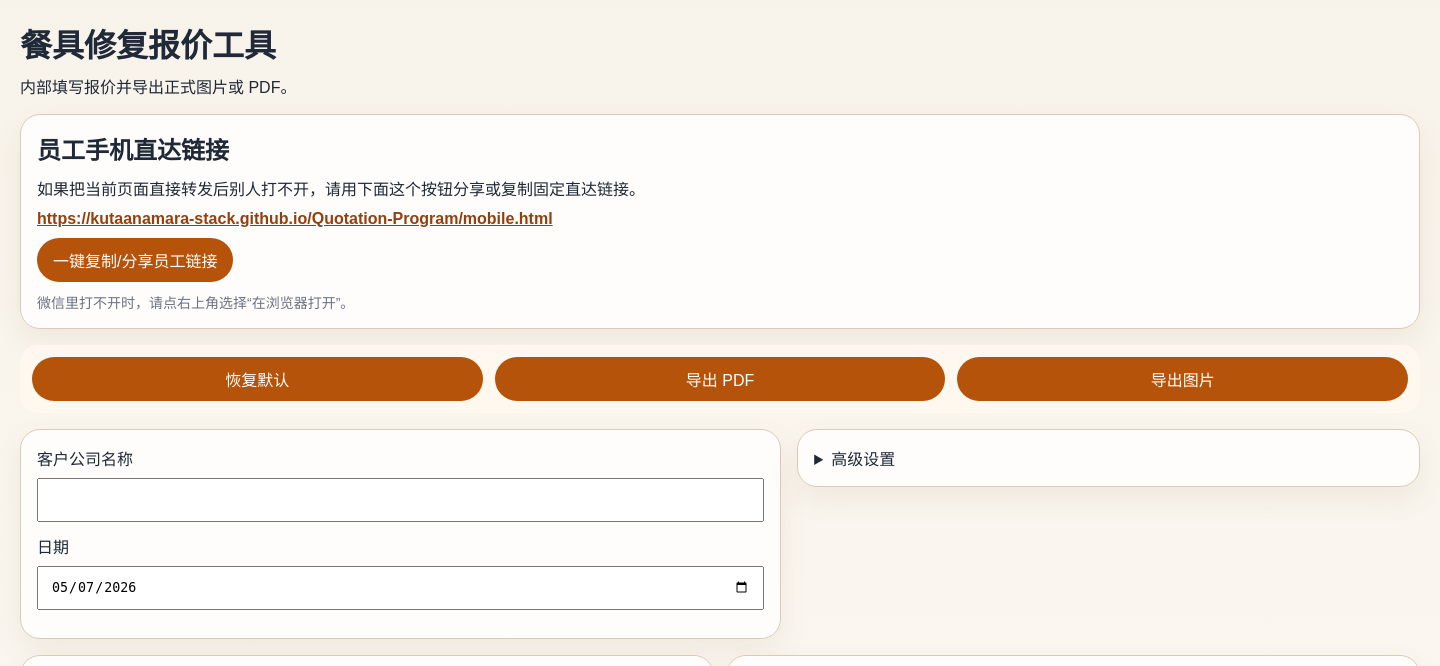
it: App › lets the operator override a single row blank price
Click the heading "高级设置" at (863, 460), box [831,451,895,468]
(page scrolled)
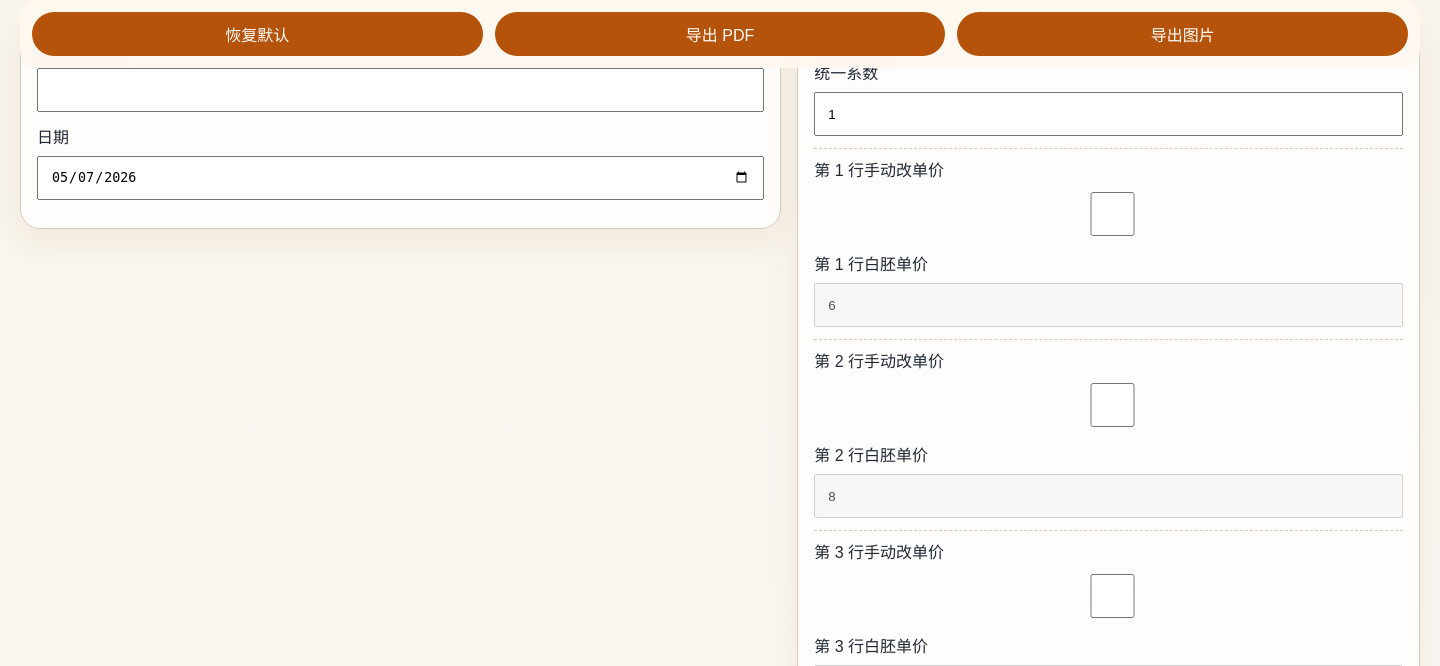
Click the checkbox labelled "第 2 行手动改单价" at (1113, 405), box [818,383,1407,427]
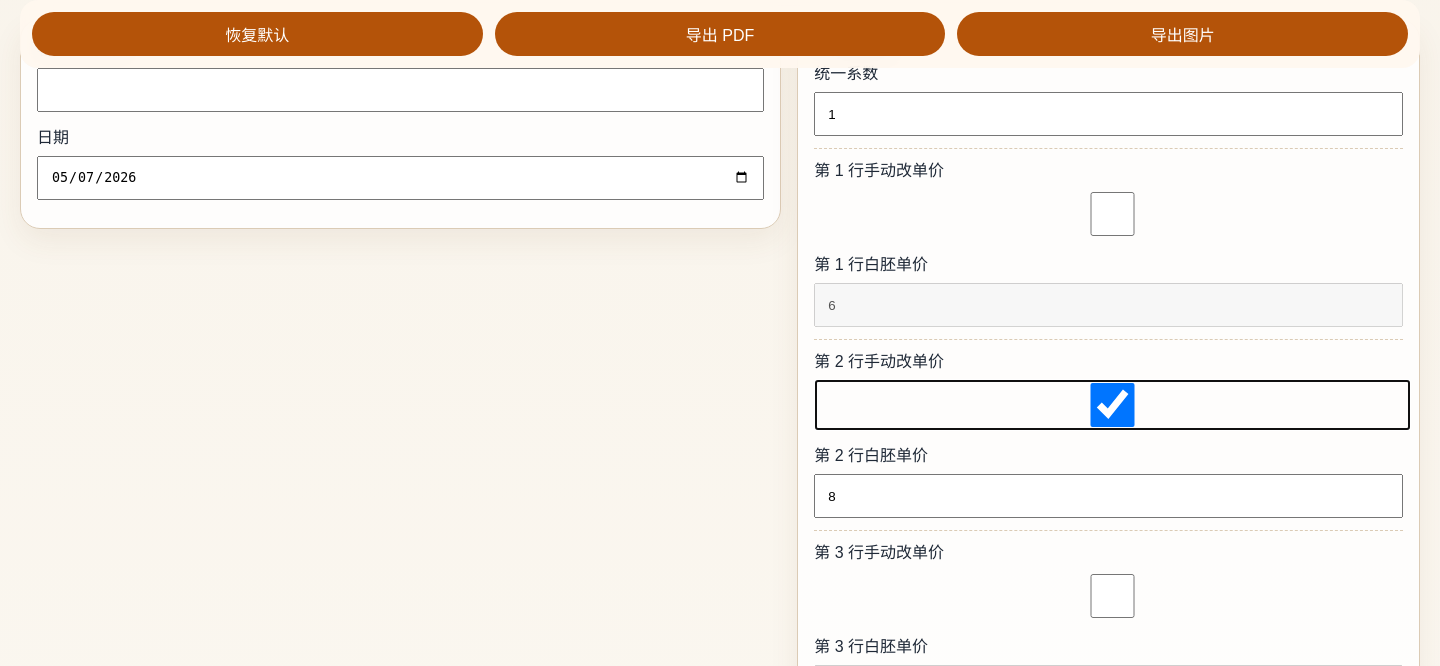
Replace the text in the number field labelled "第 2 行白胚单价" with "25" at (1109, 496), box [814,474,1403,518]
(page scrolled)
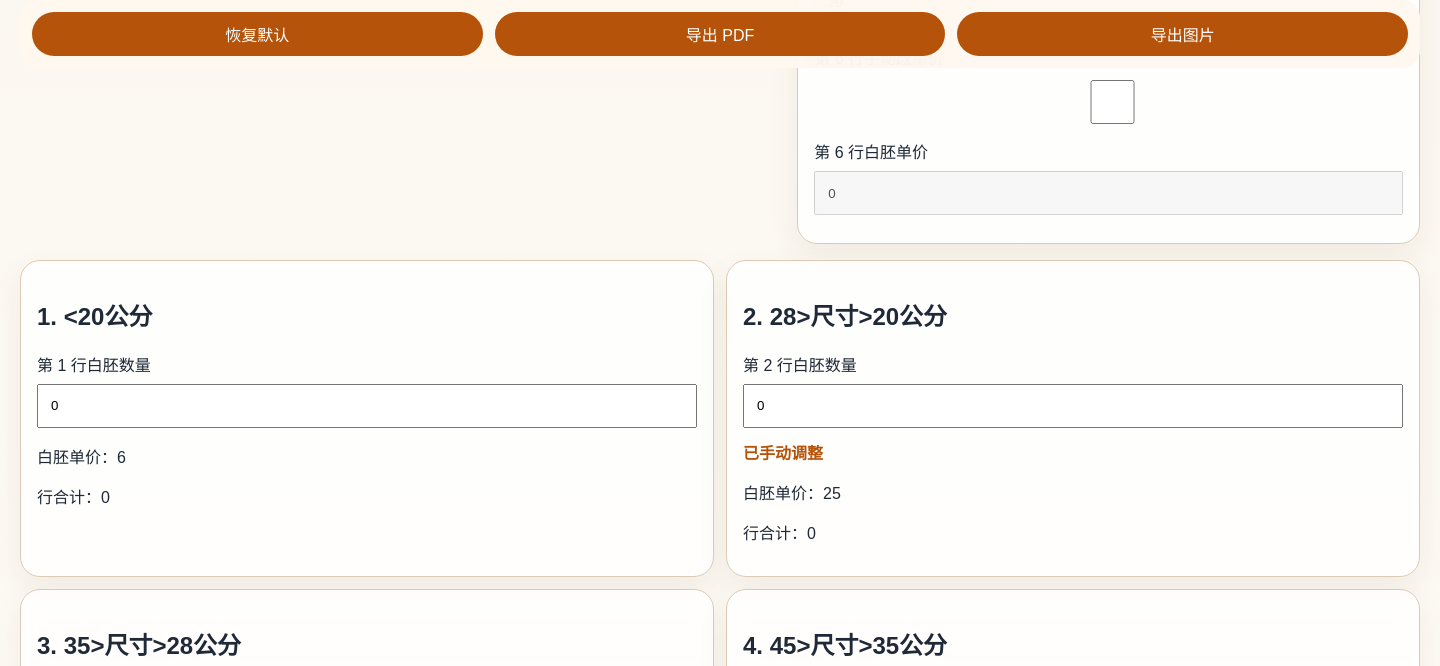
Replace the text in the number field labelled "第 2 行白胚数量" with "1" at (1073, 406), box [743,384,1403,428]
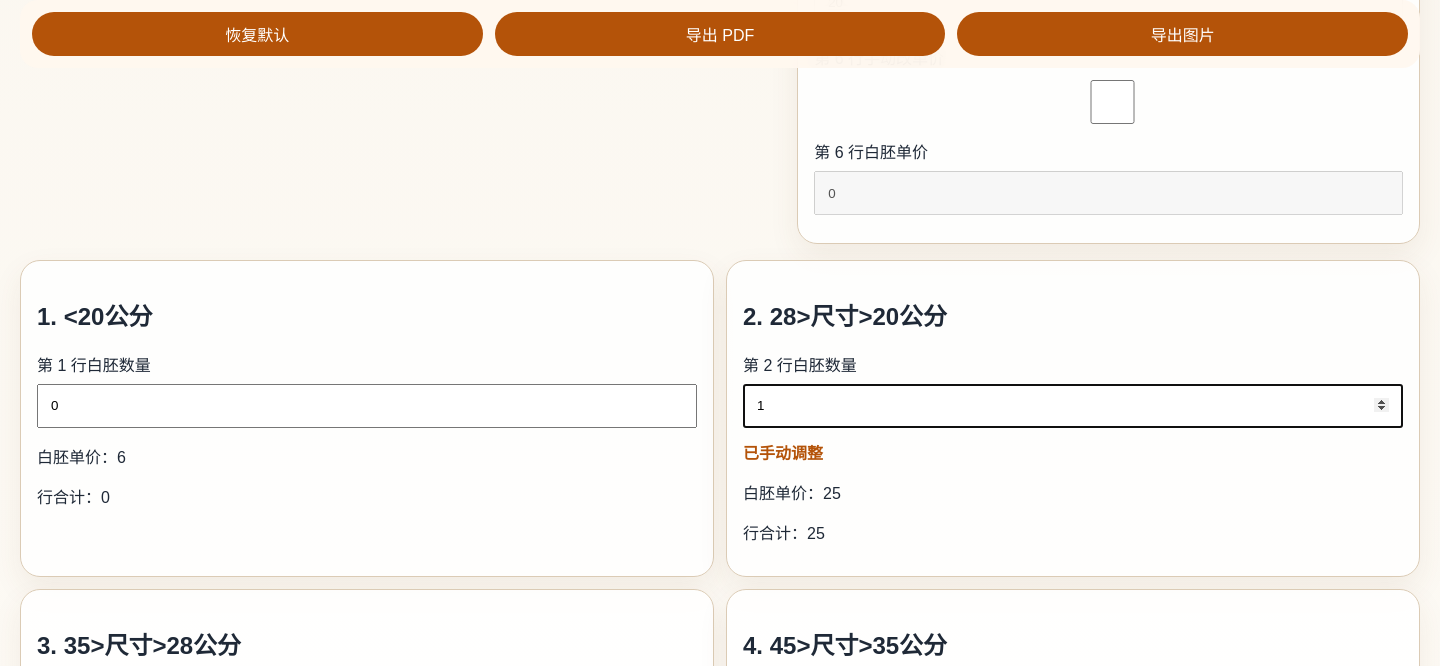
Result: the text "行合计：25" is shown at [743,525,825,542]
